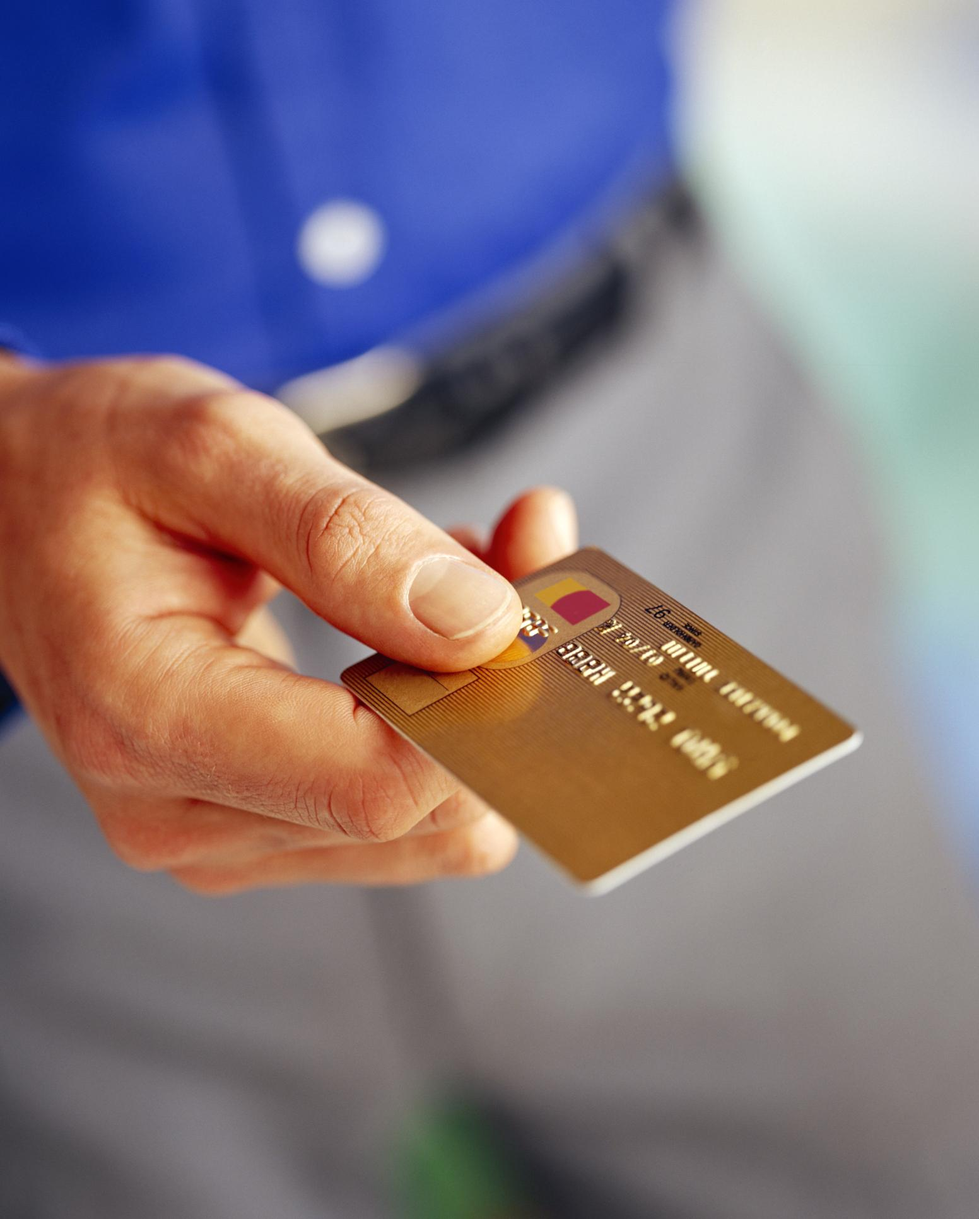Credit_card: (342, 547, 858, 892)
